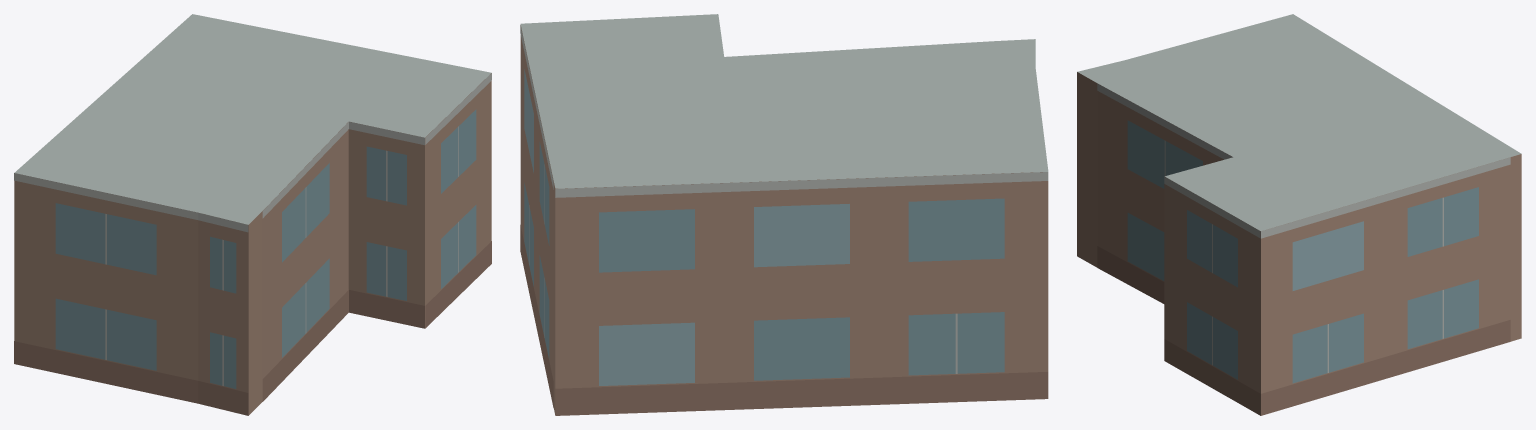
Rendered from survey-upis-32510090.glb.
3 renders of one model, left to right at view 1: azimuth 30°, elevation 25°; view 2: azimuth 150°, elevation 25°; view 3: azimuth 270°, elevation 25°, orthographic. The views are drawn at different scales.
Parts seen in each view (by area): view 1: survey-upis-32510090.tmp; view 2: survey-upis-32510090.tmp; view 3: survey-upis-32510090.tmp.
Part boxes in pixels (<box>): survey-upis-32510090.tmp: <box>14,14,491,415</box>; survey-upis-32510090.tmp: <box>520,14,1048,415</box>; survey-upis-32510090.tmp: <box>1077,14,1521,415</box>.
Bounding box in the file's own units: 15.41 × 6.1 × 13.33.
